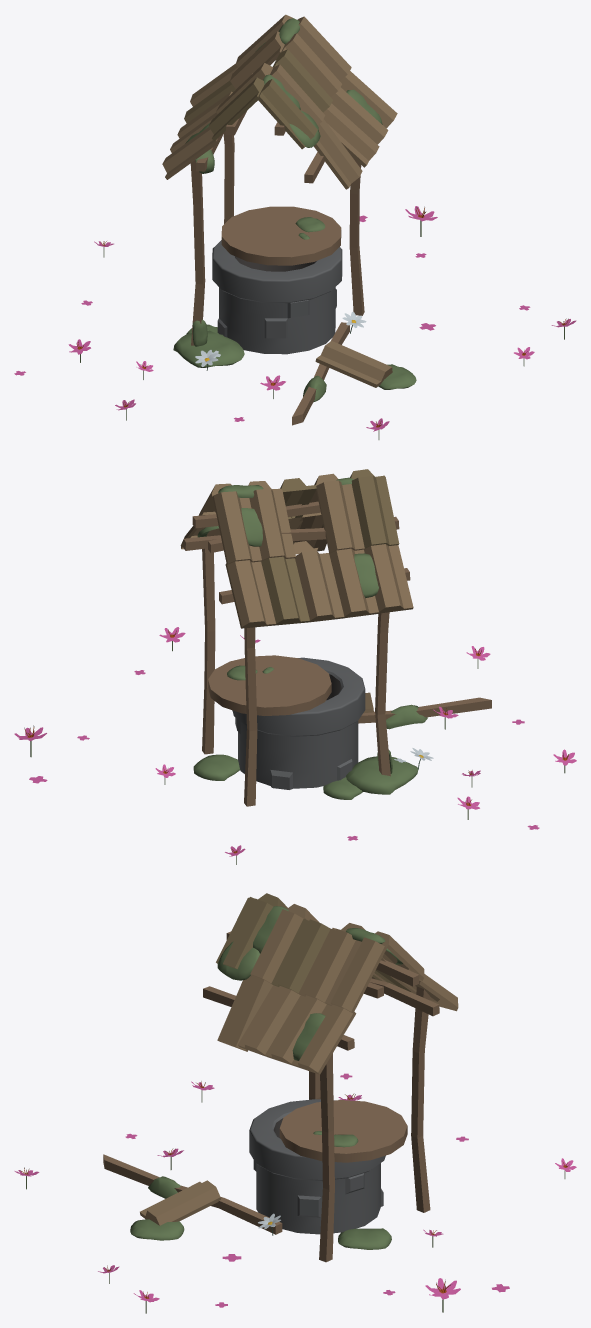
The model's file is P_Well_02_LD.fbx.
3 renders of one model, top to bottom at view 1: azimuth 30°, elevation 25°; view 2: azimuth 150°, elevation 25°; view 3: azimuth 270°, elevation 25°, orthographic. The views are drawn at different scales.
Parts seen in each view (by area): view 1: P_Well_02; view 2: P_Well_02; view 3: P_Well_02.
Boxes of the visible parts, x1,y1,x2,y2 form: P_Well_02: [14, 14, 576, 439]; P_Well_02: [14, 469, 576, 864]; P_Well_02: [14, 893, 576, 1313].
Size of the model in its own units: 491 by 289 by 487.
